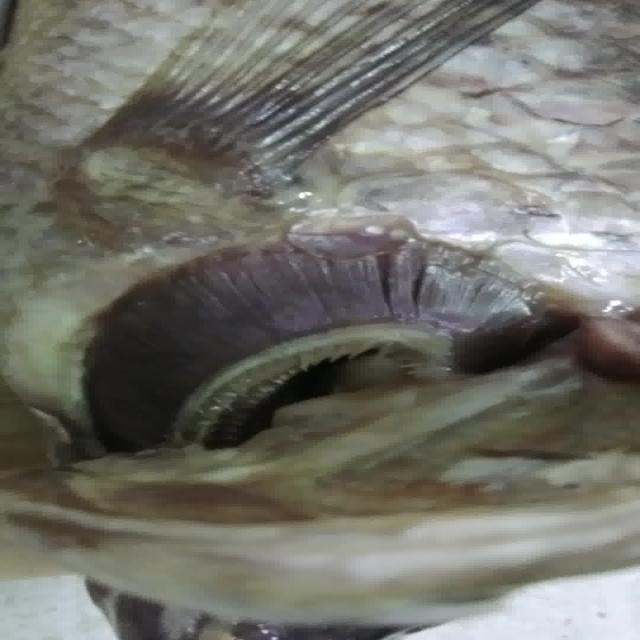Non-Fresh: (51, 222, 579, 470)
